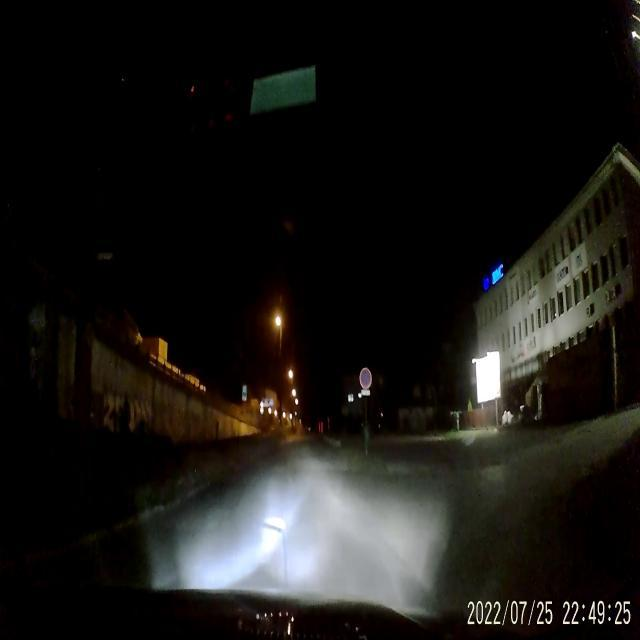Pothole: (262, 511, 292, 540)
